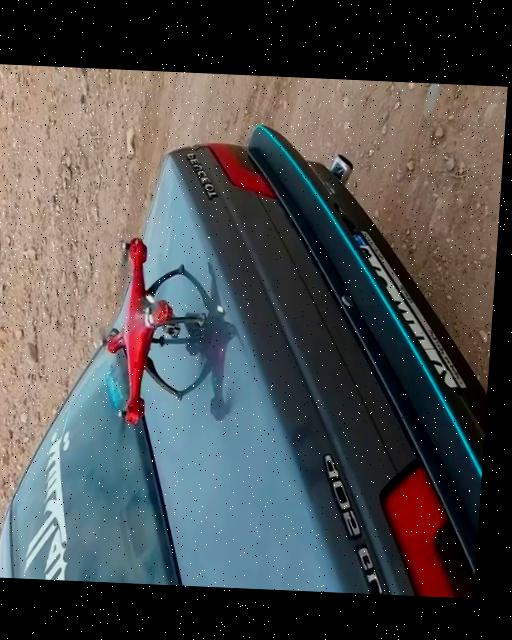drone: (92, 227, 217, 447)
